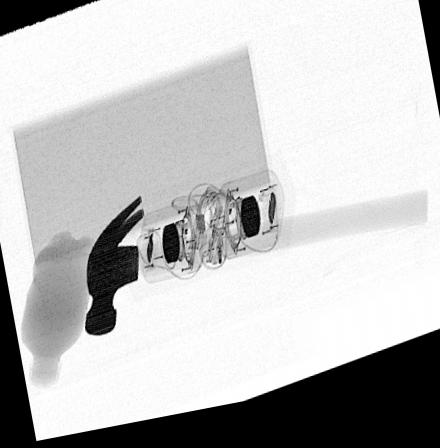Hammer: (83, 199, 428, 341)
